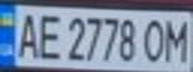2: (63, 12, 87, 62)
7: (81, 12, 103, 62), (100, 14, 121, 62)
8: (118, 15, 142, 63)
A: (12, 9, 42, 60)
E: (33, 9, 63, 61)
M: (163, 16, 193, 63)
O: (139, 16, 169, 63)
